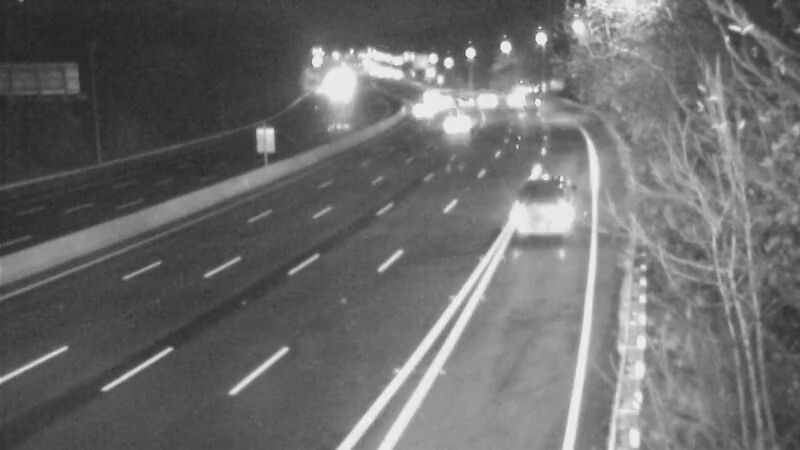vehicle: (512, 163, 592, 243), (502, 68, 552, 118), (466, 78, 516, 128), (441, 81, 491, 131), (396, 81, 446, 131), (426, 90, 476, 140)
